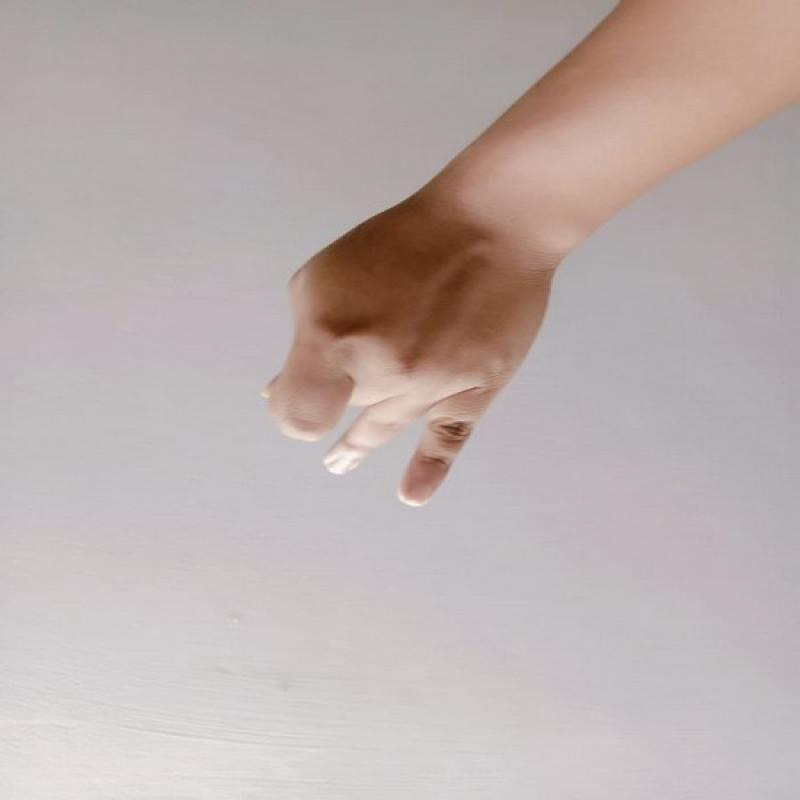Katakam: (241, 214, 555, 542)
